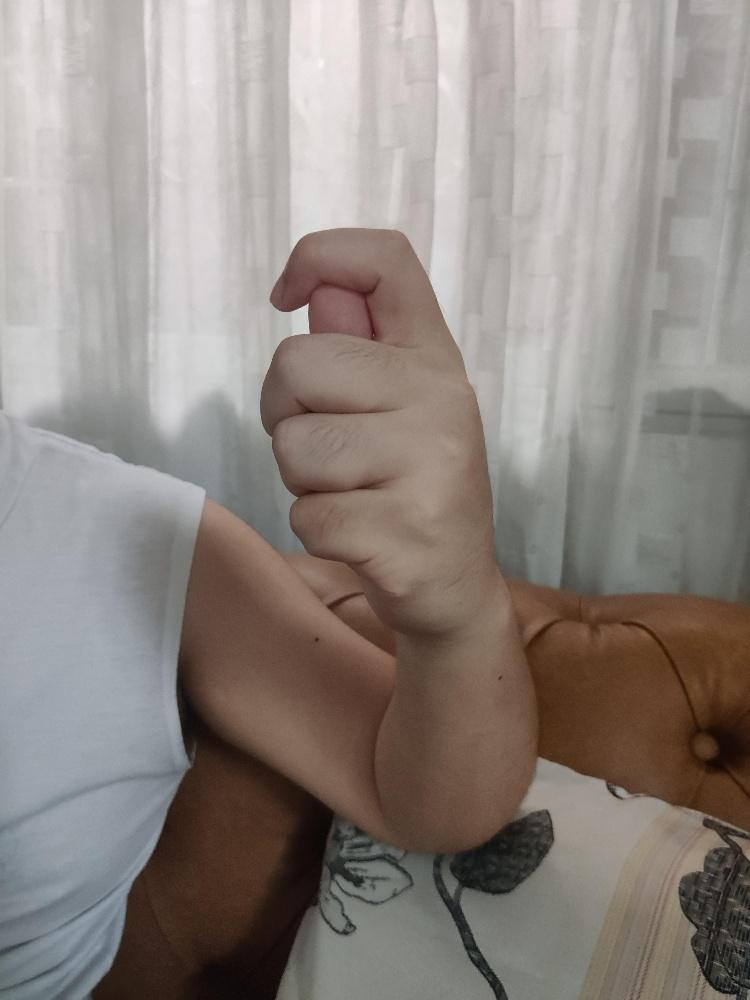t: (258, 224, 495, 636)
